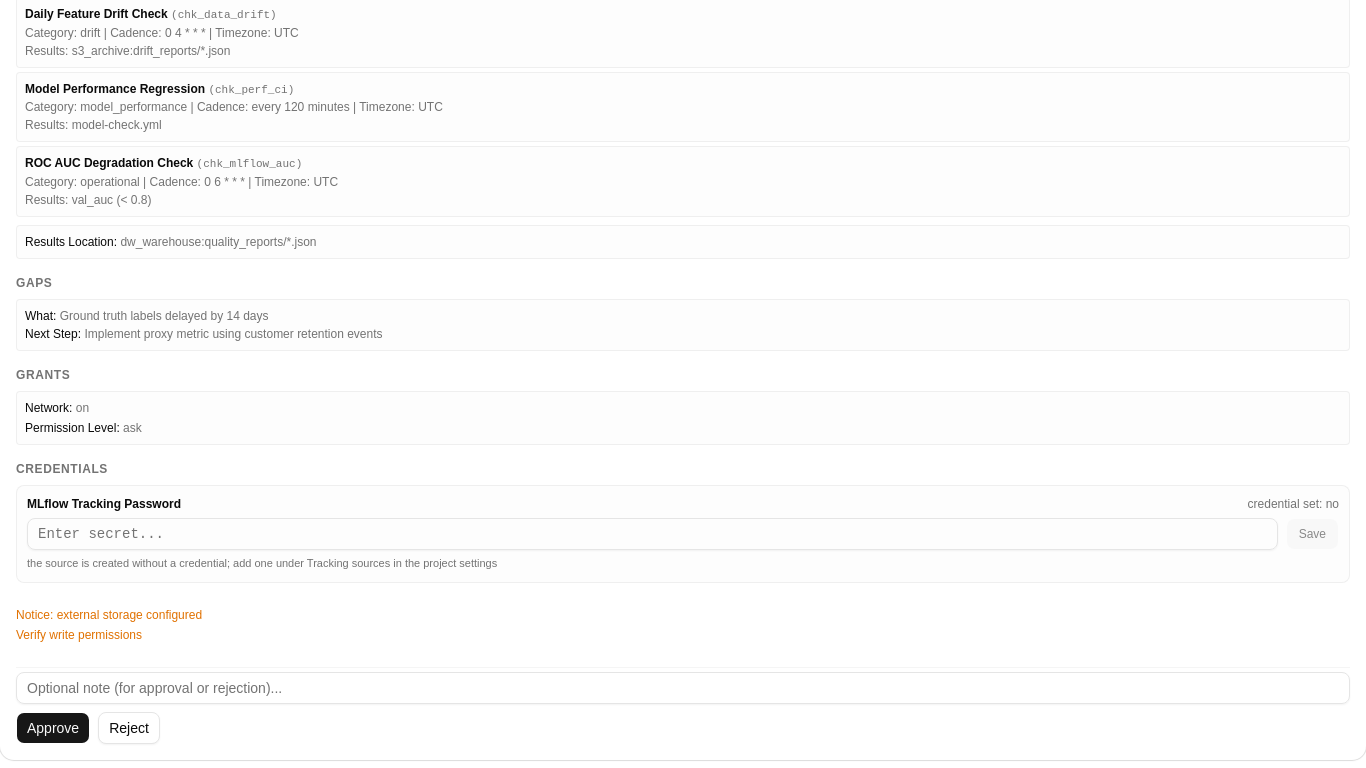
Test case: HandoffProposalCard › posts credential once and clears input state, never leaking value to DOM or query cache
(page scrolled)
Check: the text "credential set: no" is shown, box [1248,496,1339,512]
Check: the text "the source is created without a credential; add one under Tracking sources in the project settings" is shown, box [27,557,497,569]
Note: Type secret
Type "super-secret-password-1234" into the password field labelled "MLflow Tracking Password" at (652, 534), box [27,518,1278,550]
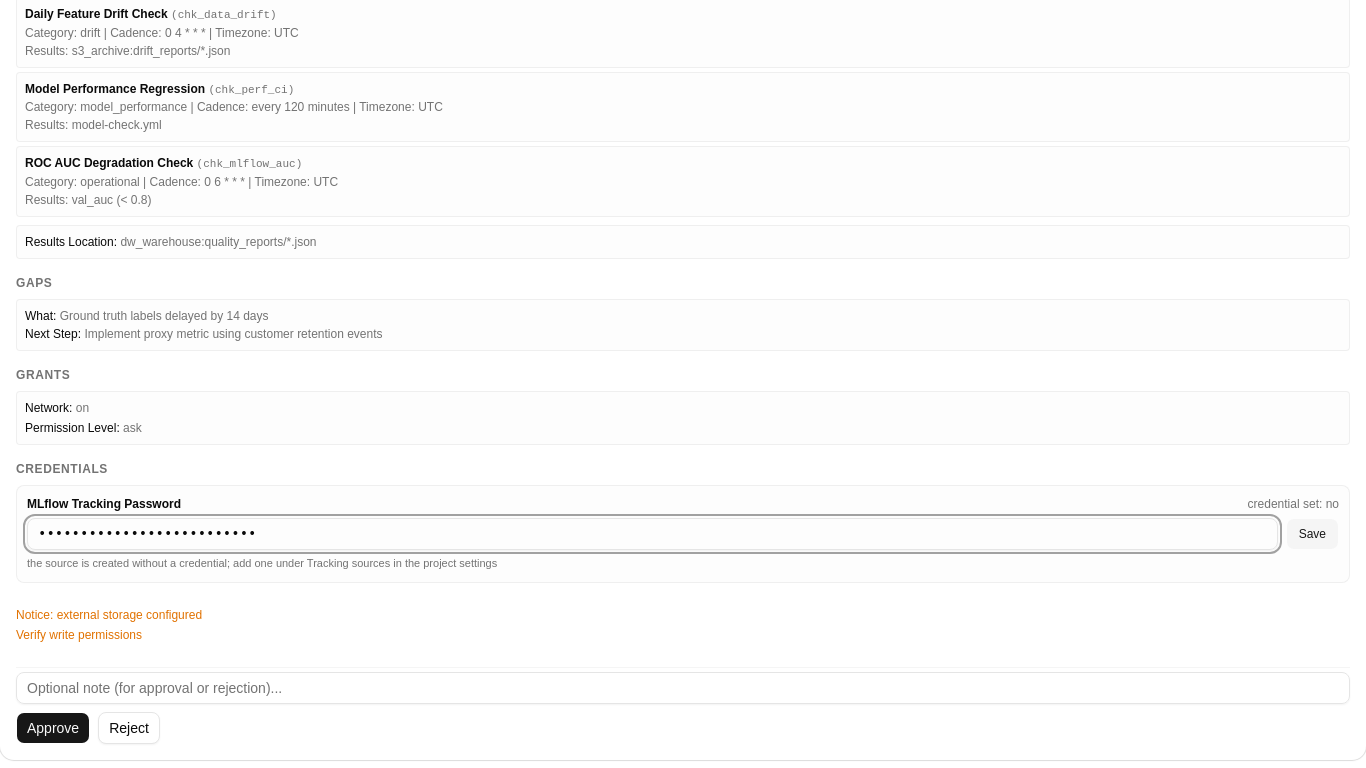
Check: the button "Save" is enabled
Note: Click Save
Click the button "Save" at (1312, 534), box [1286,518,1339,550]
(page scrolled)
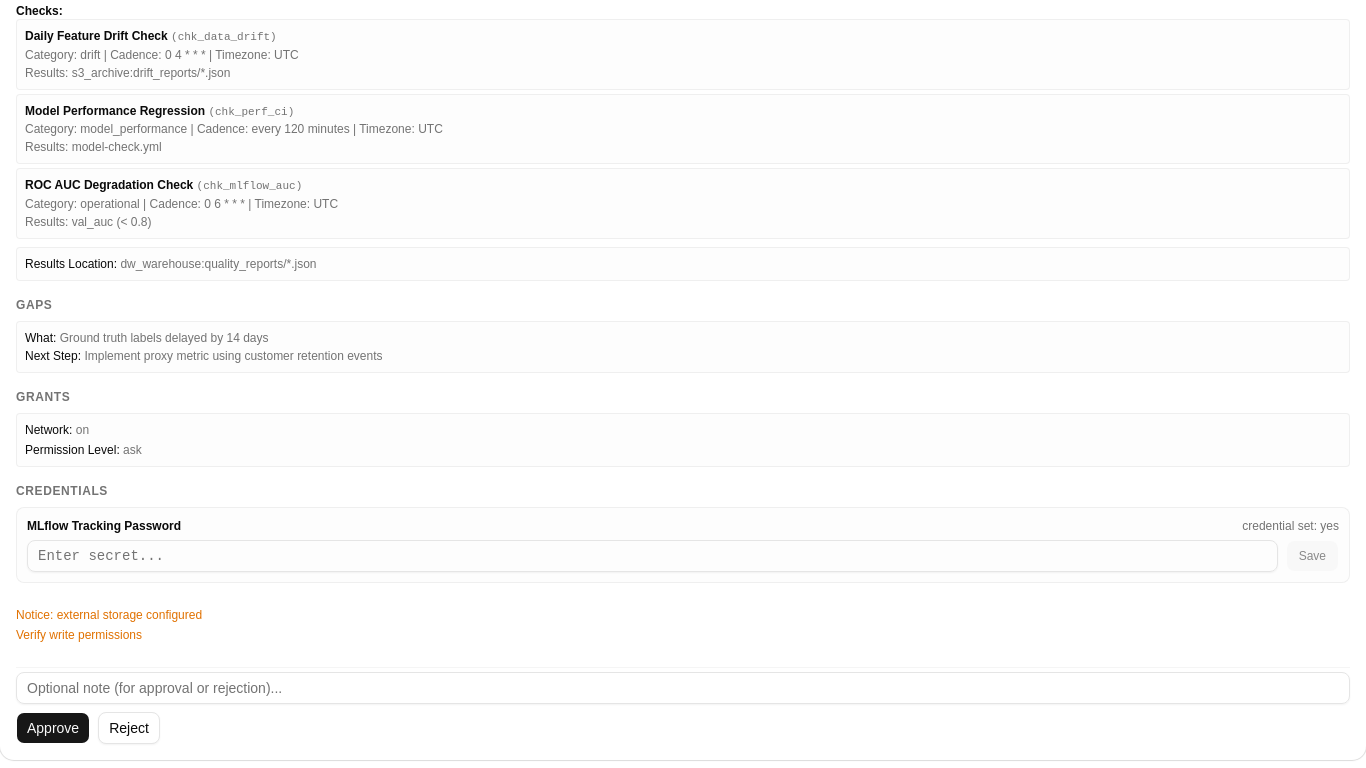
Check: the password field labelled "MLflow Tracking Password" is empty, box [27,540,1278,572]
Check: the text "credential set: yes" is shown, box [1242,518,1339,534]
